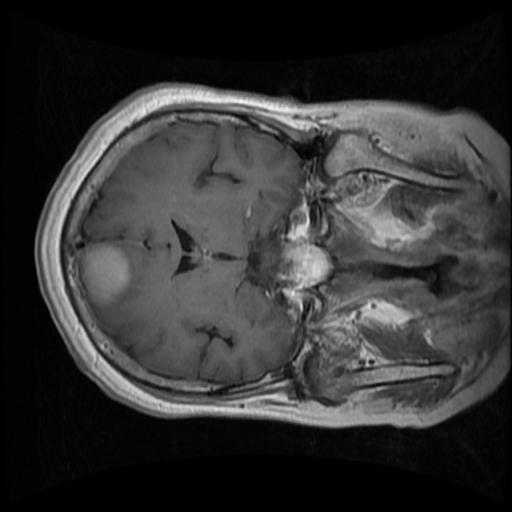meningioma: (78, 243, 127, 307)
